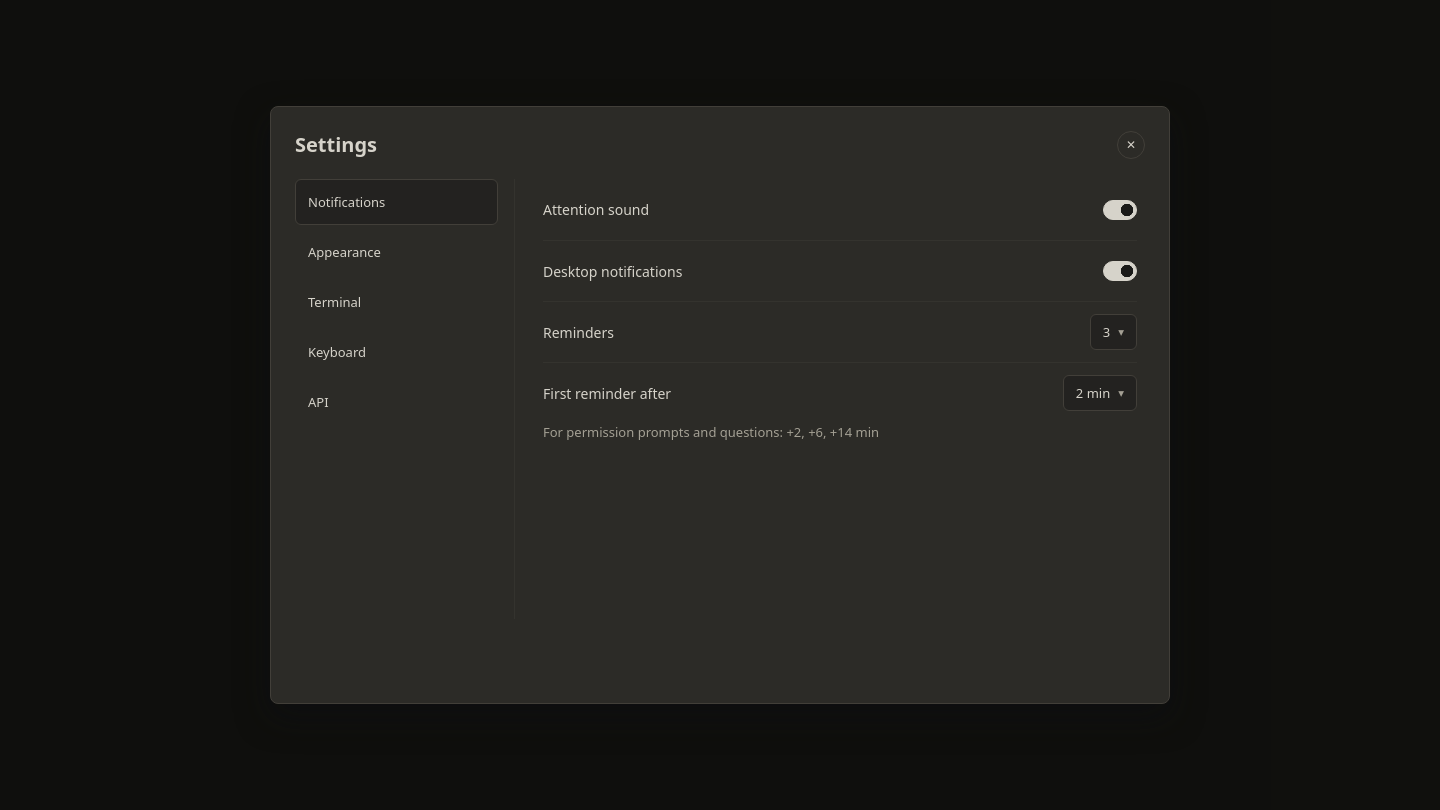
it: Settings — ✓ Saved and rollback › a refused change snaps the control back to main value and names it on the error line
Click the switch with test id "settings-sound-toggle": (1120, 210) [1103,200,1137,220]
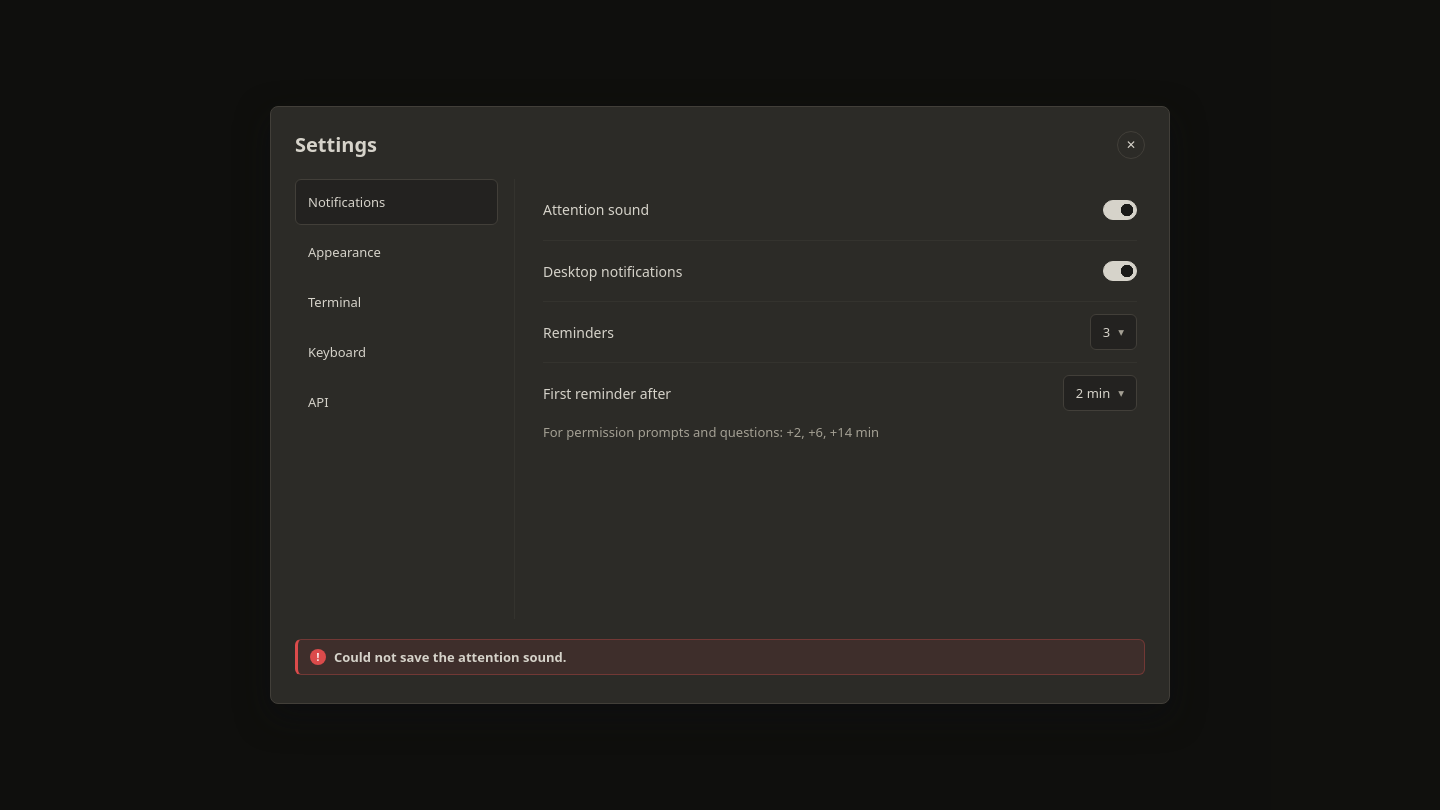
Now the message with test id "settings-error" reads "Could not save the attention sound.", box [334,648,566,666]
